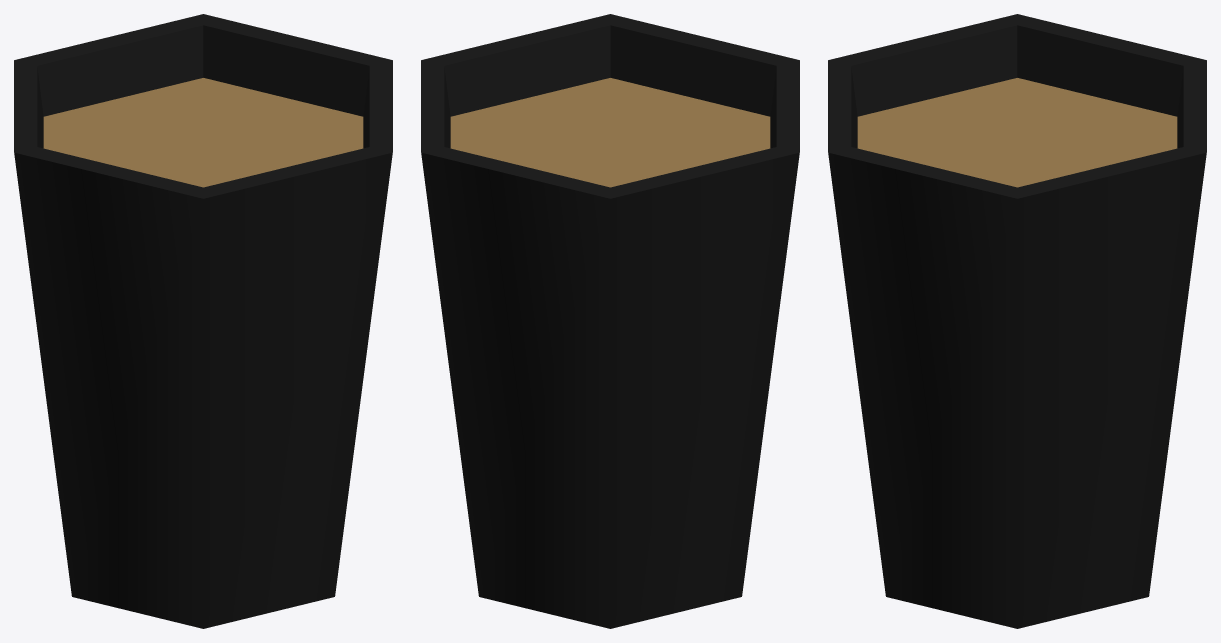
Rendered from Itr_Obj_Flowerpot2_Base_02.FBX.
The picture shows the model from 3 angles, left to right: view 1: azimuth 30°, elevation 25°; view 2: azimuth 150°, elevation 25°; view 3: azimuth 270°, elevation 25°; orthographic projection.
Visible parts, largest first — view 1: Itr_Obj_Flowerpot2_Base_02; view 2: Itr_Obj_Flowerpot2_Base_02; view 3: Itr_Obj_Flowerpot2_Base_02.
Boxes of the visible parts, x1,y1,x2,y2 form: Itr_Obj_Flowerpot2_Base_02: [14, 14, 392, 628]; Itr_Obj_Flowerpot2_Base_02: [421, 14, 799, 628]; Itr_Obj_Flowerpot2_Base_02: [828, 14, 1206, 628].
Size of the model in its own units: 24 by 27.76 by 20.78.
